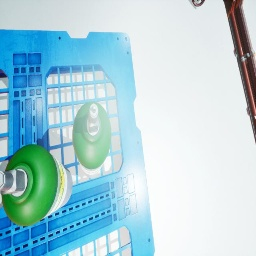0: (0, 144, 73, 226), (72, 102, 111, 178)
NitrogenTank ,: (192, 0, 205, 7)
